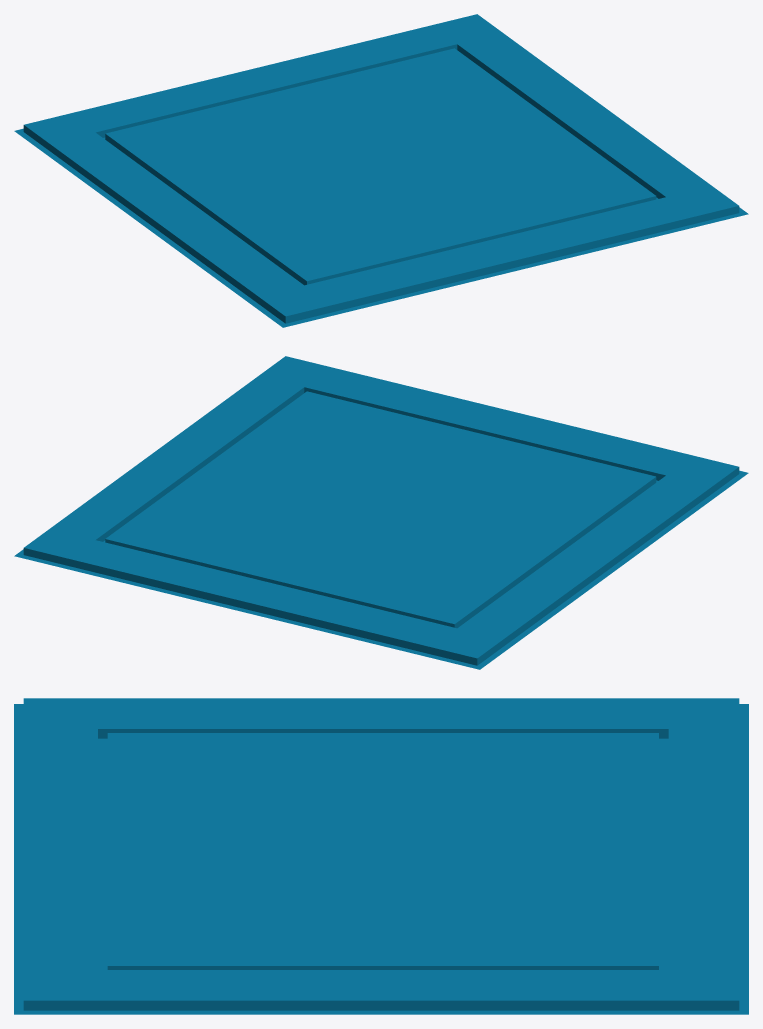
Rendered from Floor.fbx.
3 renders of one model, top to bottom at view 1: azimuth 30°, elevation 25°; view 2: azimuth 150°, elevation 25°; view 3: azimuth 270°, elevation 25°, orthographic. The views are drawn at different scales.
Parts seen in each view (by area): view 1: fLOOR; view 2: fLOOR; view 3: fLOOR.
Part boxes in pixels (x1,y1,x2,y2): fLOOR: (14, 14, 748, 327); fLOOR: (14, 356, 748, 669); fLOOR: (14, 698, 748, 1014).
Bounding box in the file's own units: 200 × 2.99 × 200.
